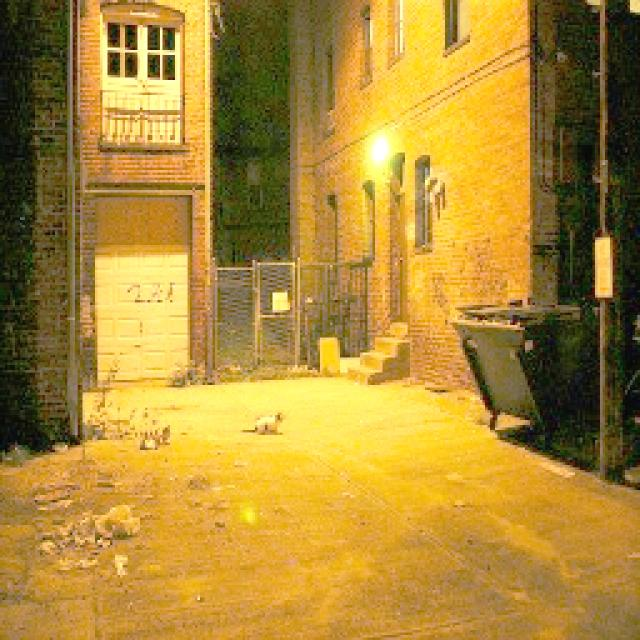cat: (242, 395, 286, 444)
